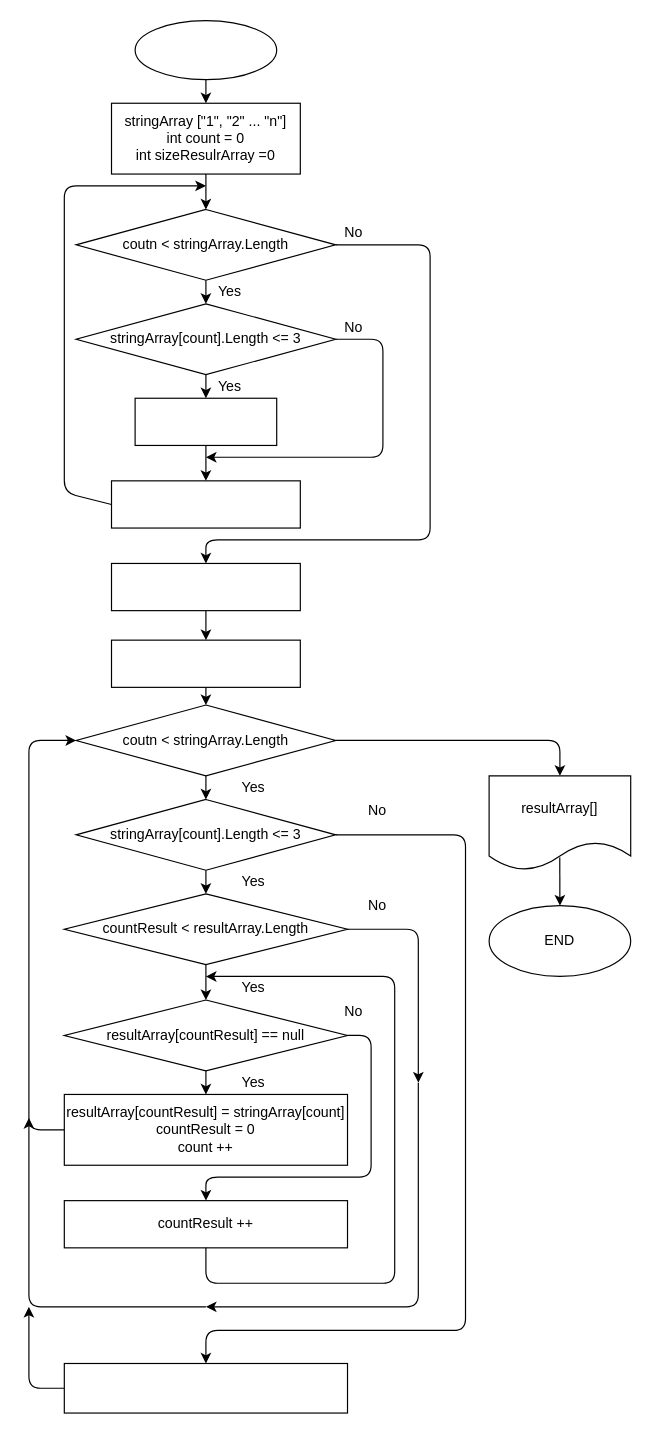
Some shapes in this 651 by 1434 pixel diagram are drawn without their labels. Each missing label, with the centre of its shape:
Begin: [205,49]
count ++: [205,1387]
count = 0 int countResult = 0: [205,663]
count++: [205,504]
sizeResulrArray++: [205,421]
string[] resultArray = = new string[count]: [205,586]
